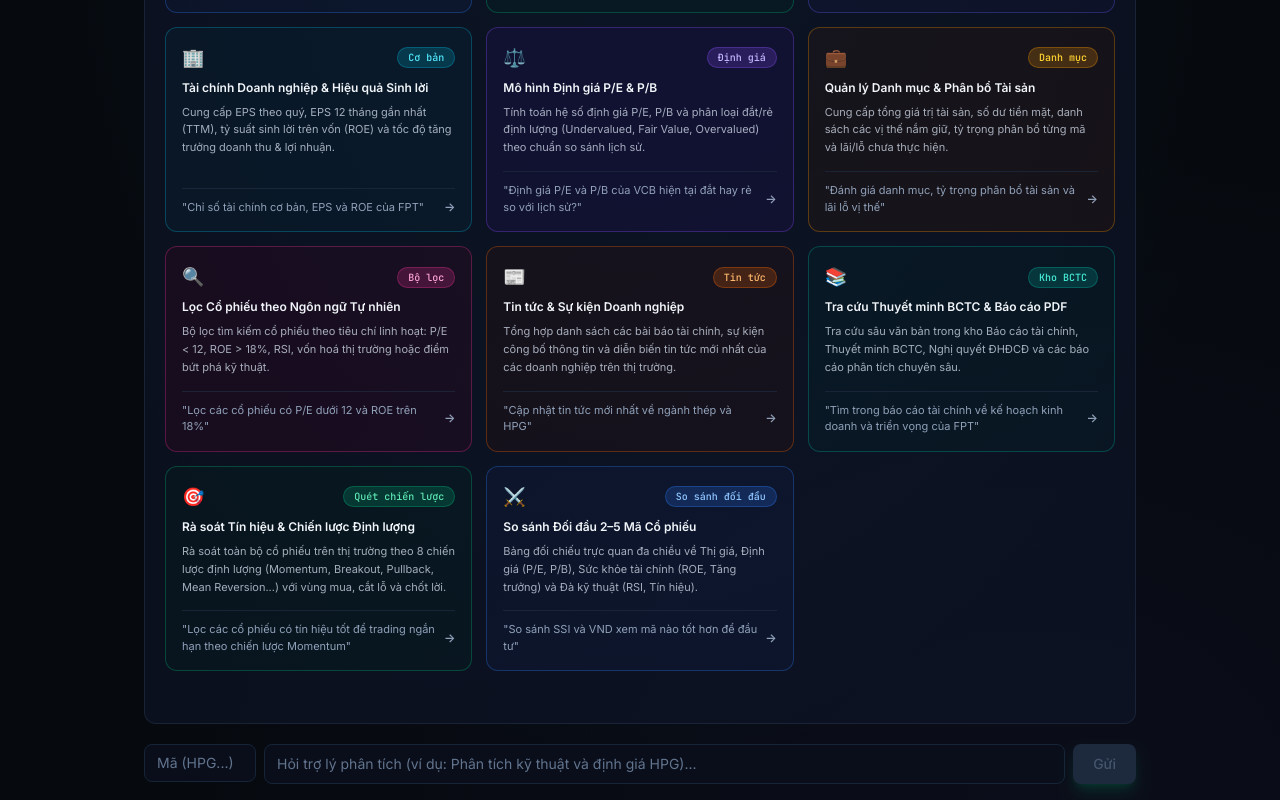
Test case: AskAnalyst Component (User Story 1: P1) › renders both structured claims and document citations distinctly for combined question (User Story 2: P2)
This screenshot has width=1280, height=800.
(page scrolled)
Replace the text in the field with placeholder "Hỏi trợ lý phân tích" with "Giá HPG và tài liệu BCTN 2025" at (665, 764), box [264,744,1065,784]
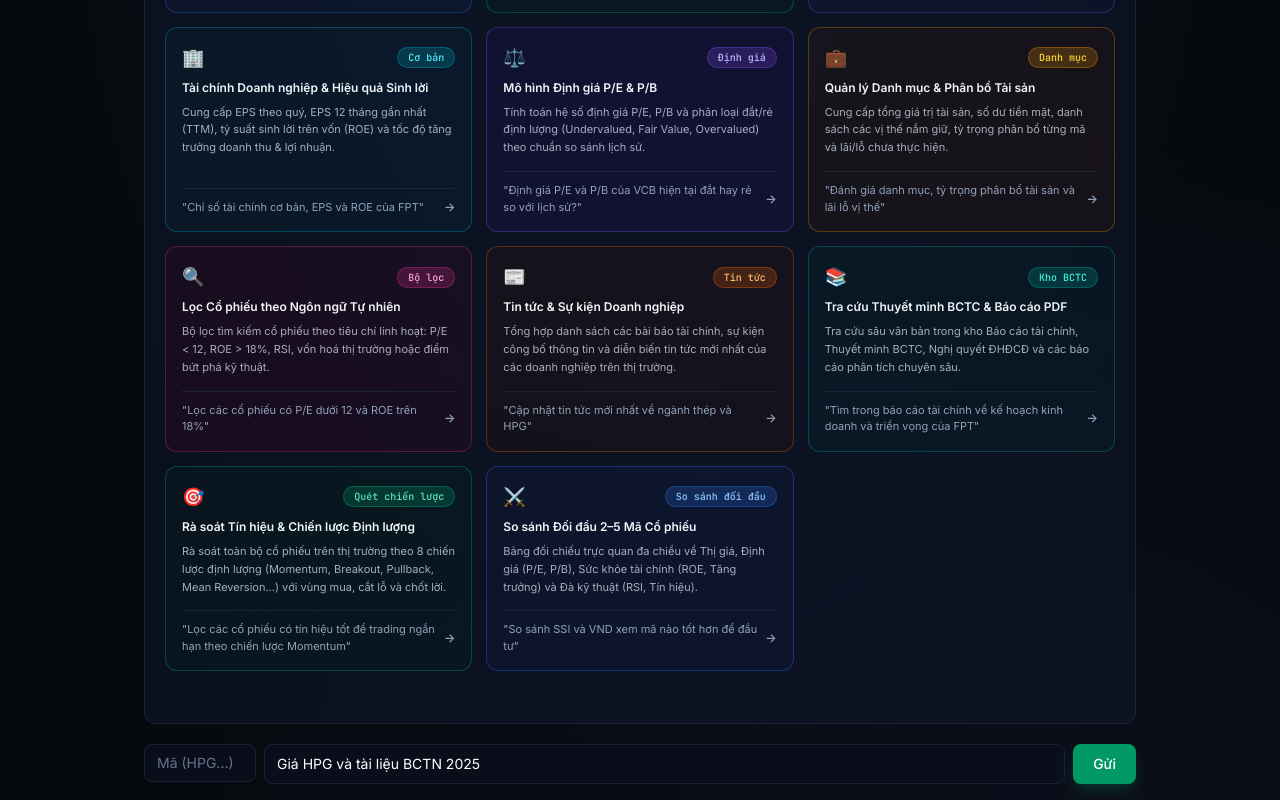
Click the button "Gửi" at (1105, 764), box [1073,744,1136,784]
(page scrolled)
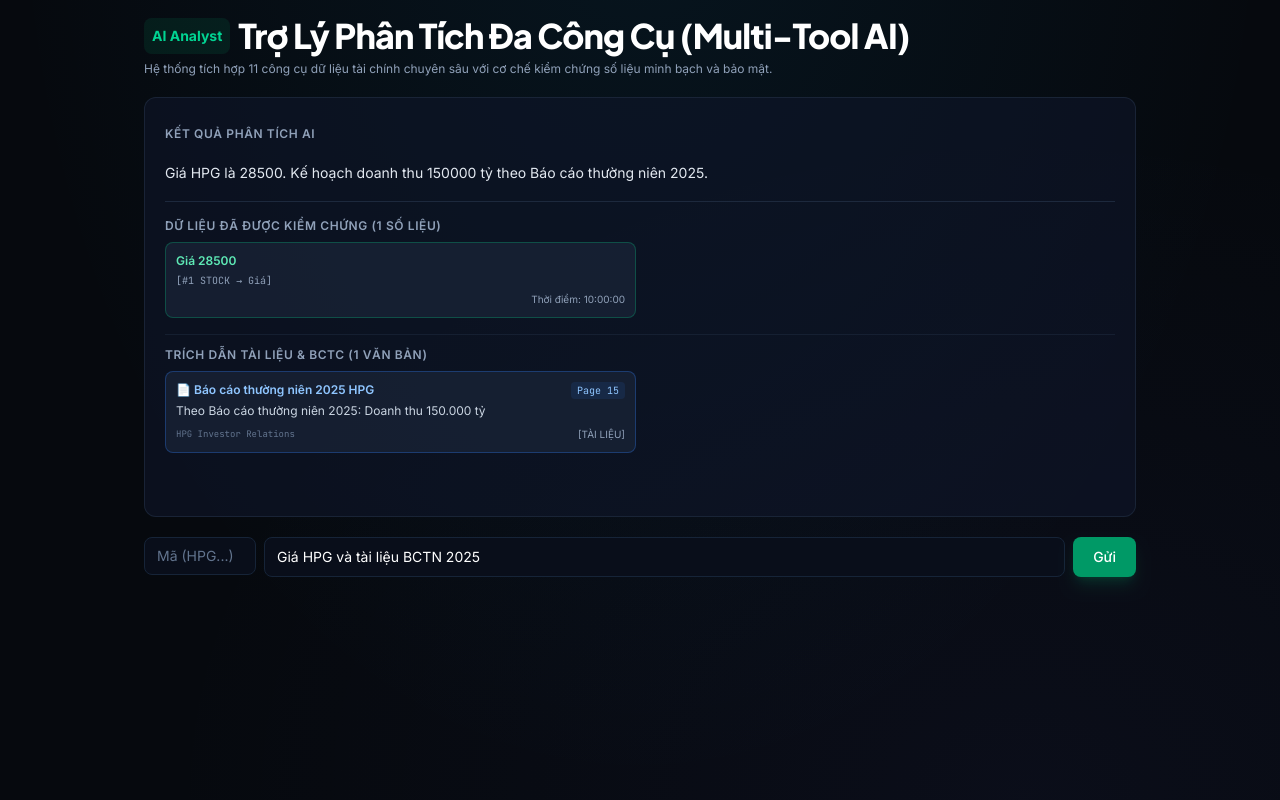
Check: the text "Dữ liệu đã được kiểm chứng (1 số liệu)" is shown, box [165,218,442,234]
Check: the text "Giá 28500" is shown, box [176,252,236,268]
Check: the text "Trích dẫn tài liệu & BCTC (1 văn bản)" is shown, box [165,346,428,362]
